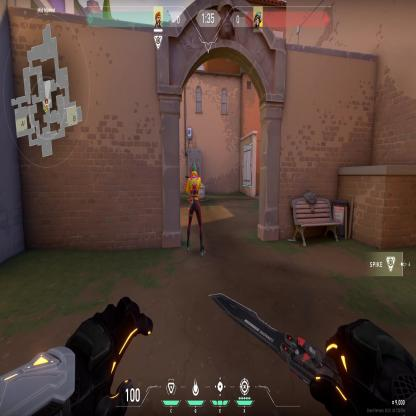enemy: (184, 162, 205, 260)
